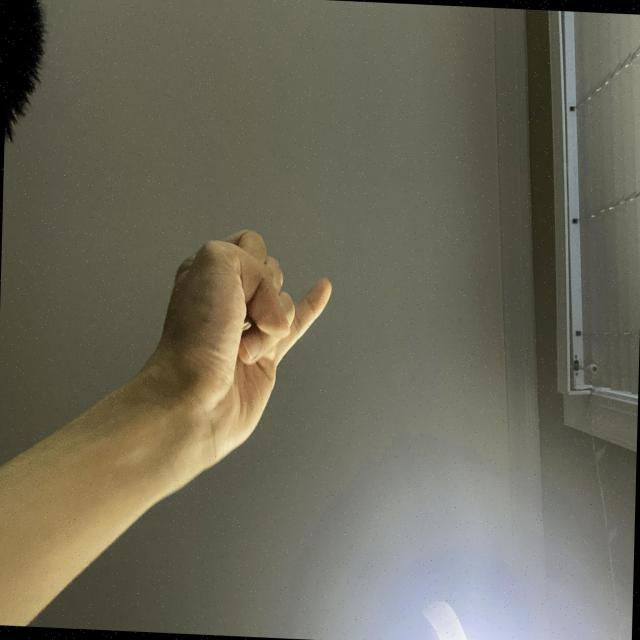I: (317, 404, 521, 640)
